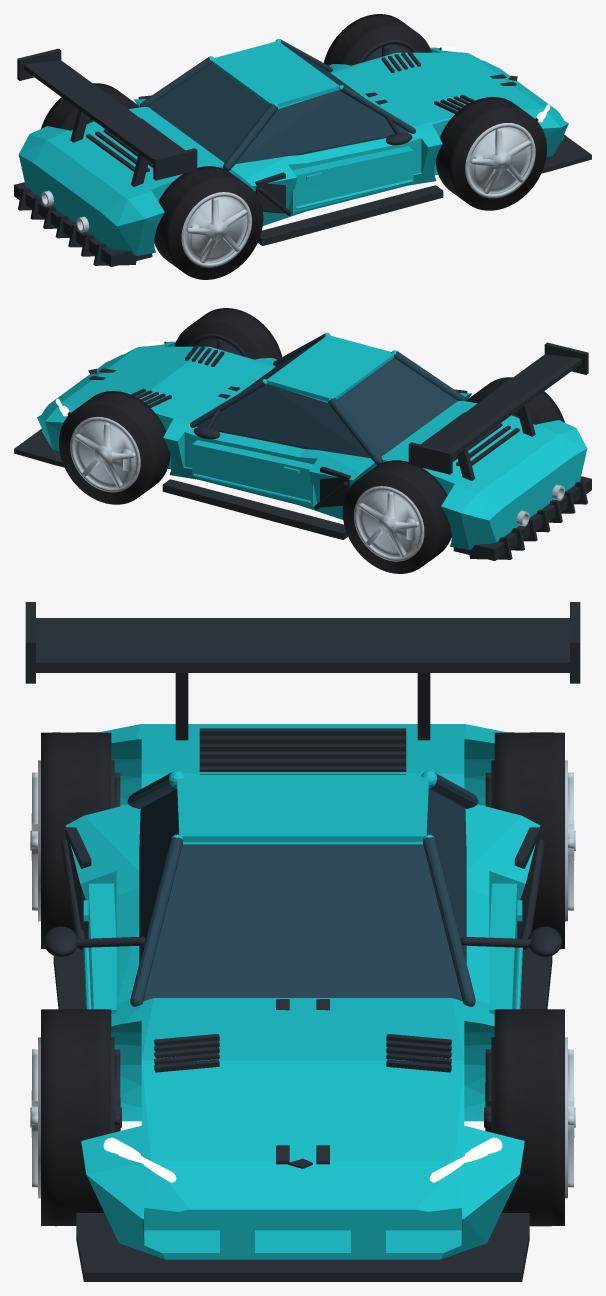
Rendered from neon-r.glb.
3 renders of one model, top to bottom at view 1: azimuth 30°, elevation 25°; view 2: azimuth 150°, elevation 25°; view 3: azimuth 270°, elevation 25°, orthographic. The views are drawn at different scales.
Parts seen in each view (by area): view 1: body, wheels, canopy, aero, detail; view 2: body, wheels, canopy, aero, detail; view 3: body, canopy, aero, wheels, detail.
Boxes of the visible parts, <box> form: body: <box>18,47,568,255</box>; wheels: <box>41,14,546,279</box>; canopy: <box>139,38,415,171</box>; aero: <box>14,48,591,266</box>; detail: <box>41,45,550,232</box>; body: <box>37,341,587,549</box>; wheels: <box>59,308,564,573</box>; canopy: <box>190,332,466,465</box>; aero: <box>14,342,591,560</box>; detail: <box>55,339,564,526</box>; body: <box>65,724,540,1259</box>; canopy: <box>127,770,478,1006</box>; aero: <box>25,602,580,1281</box>; wheels: <box>30,732,575,1226</box>; detail: <box>103,728,502,1182</box>.
Size of the model in its own units: 4.85 by 1.32 by 2.42.
